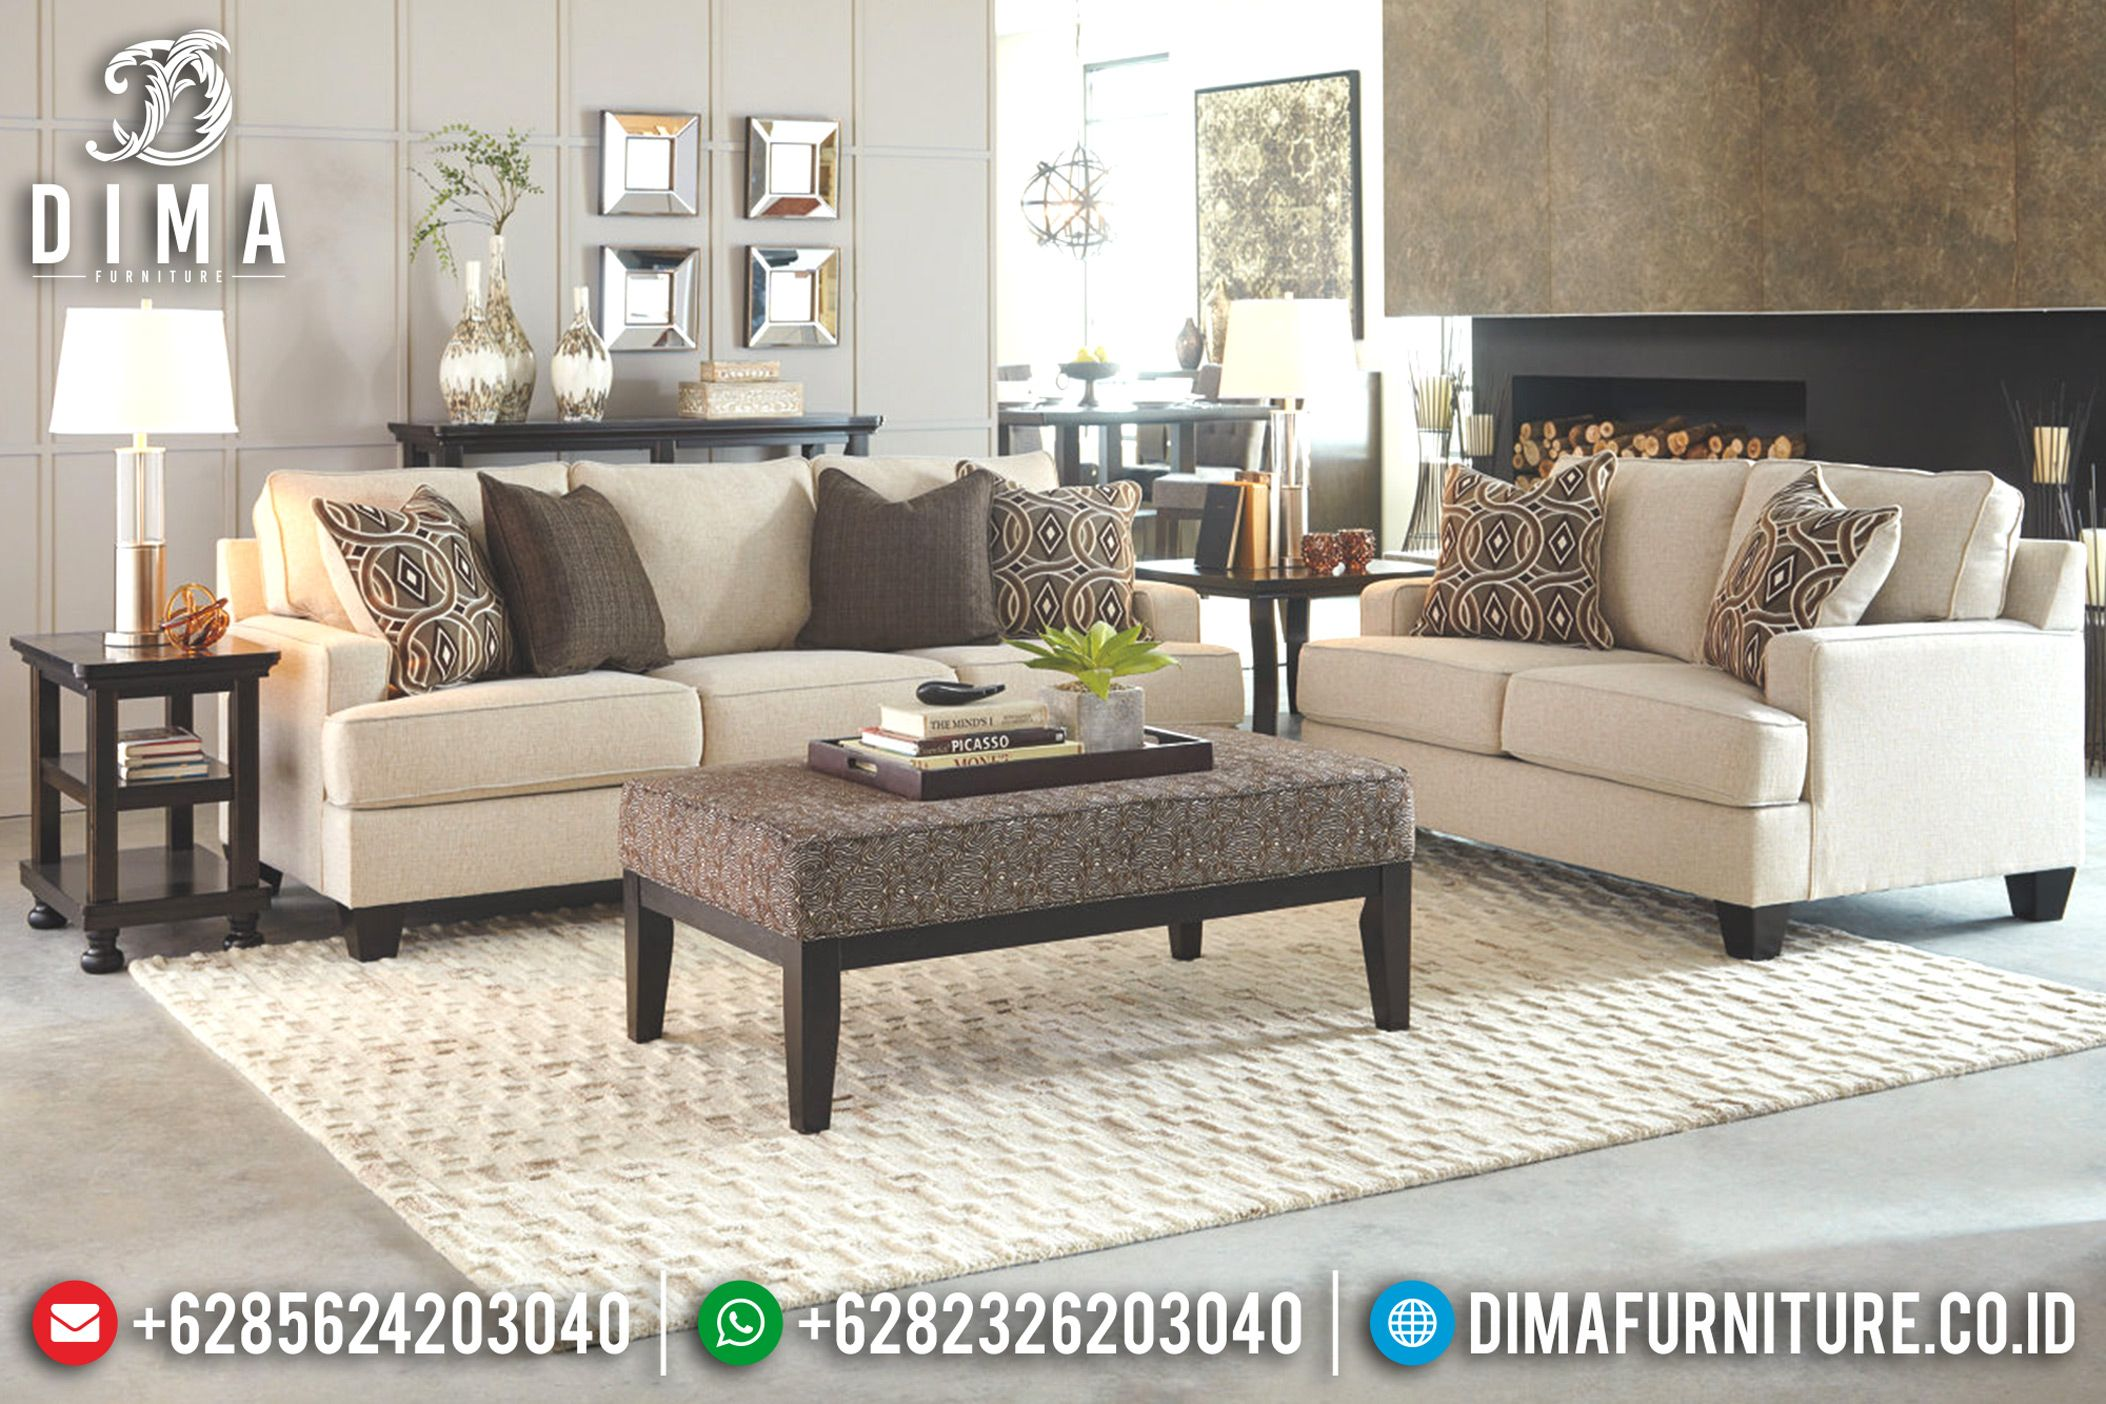bantal: (1428, 461, 1620, 642), (324, 497, 509, 682), (492, 481, 675, 668), (804, 472, 993, 649), (1717, 481, 1868, 664), (1001, 472, 1134, 641)
buku: (1199, 470, 1286, 570), (882, 704, 1023, 754), (121, 724, 213, 779)
lampu: (53, 295, 238, 639)
meja: (595, 740, 1453, 1055), (22, 625, 265, 968)
sova: (1313, 445, 2082, 939), (212, 472, 1244, 787)
tanaman: (404, 122, 534, 418), (1028, 600, 1169, 747)
